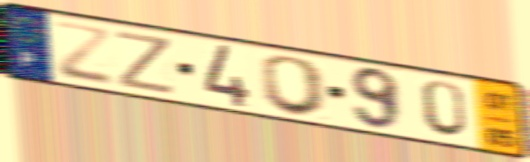0: (417, 79, 469, 140)
4: (202, 42, 252, 110)
9: (347, 65, 403, 133)
O: (259, 53, 331, 120)
Z: (51, 18, 116, 88), (113, 28, 177, 98)
